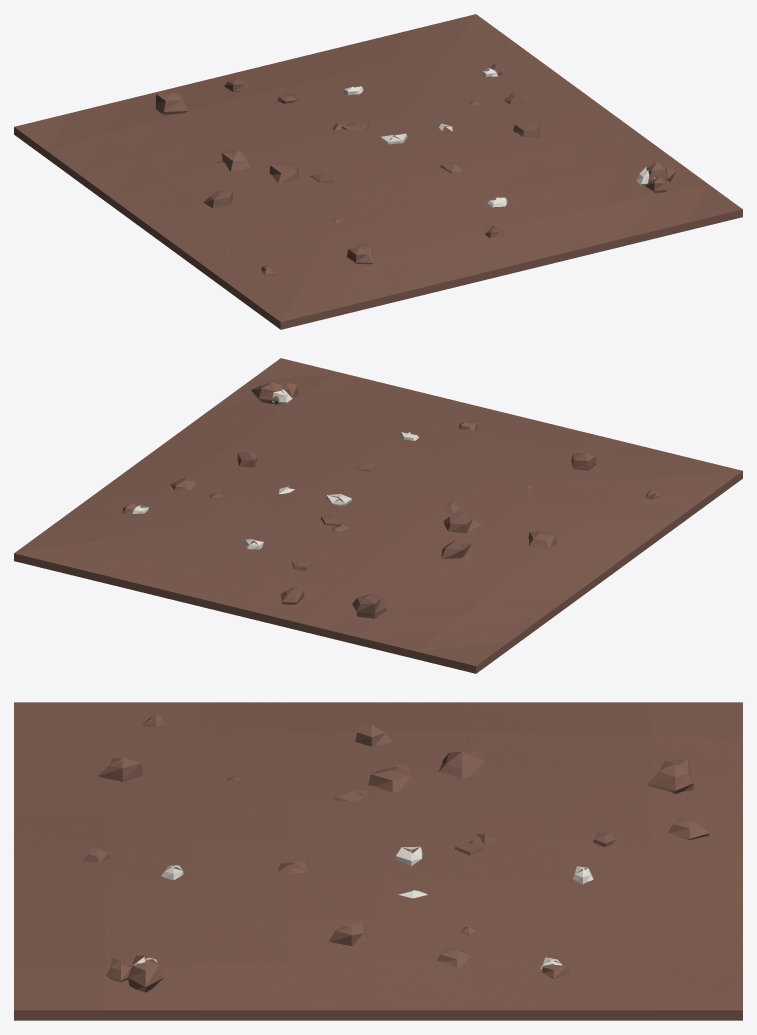
Rendered from volcano-and-lava-fields-volcano-and-lava-fields-lapill-9739063b__37447.glb.
3 views of the same model, one above another, from view 1: azimuth 30°, elevation 25°; view 2: azimuth 150°, elevation 25°; view 3: azimuth 270°, elevation 25° (orthographic). The views are drawn at different scales.
Parts seen in each view (by area): view 1: volcano-and-lava-fields-lapilli-scatter-patch; view 2: volcano-and-lava-fields-lapilli-scatter-patch; view 3: volcano-and-lava-fields-lapilli-scatter-patch.
Boxes of the visible parts, x1,y1,x2,y2 form: volcano-and-lava-fields-lapilli-scatter-patch: [14, 14, 742, 329]; volcano-and-lava-fields-lapilli-scatter-patch: [14, 358, 742, 673]; volcano-and-lava-fields-lapilli-scatter-patch: [14, 702, 742, 1020].
Size of the model in its own units: 2.5 by 0.1669 by 2.5.
Materials: 2 (1 with a texture image).
